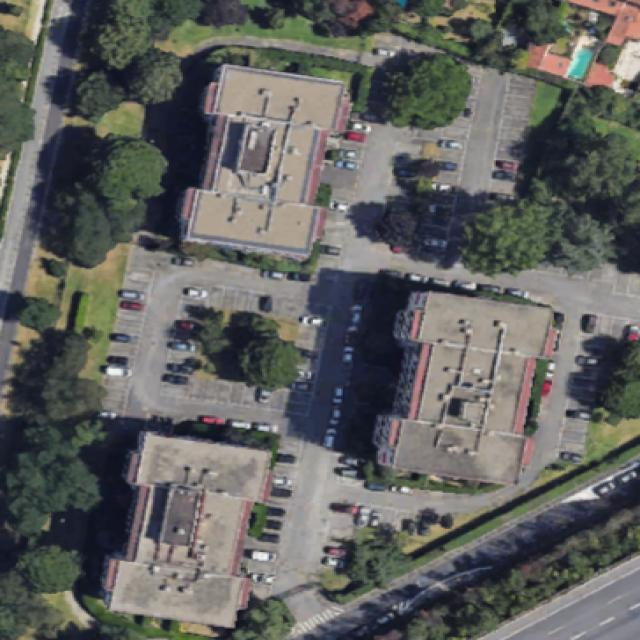immeuble: (174, 53, 355, 267), (97, 425, 277, 636), (370, 288, 557, 487)
